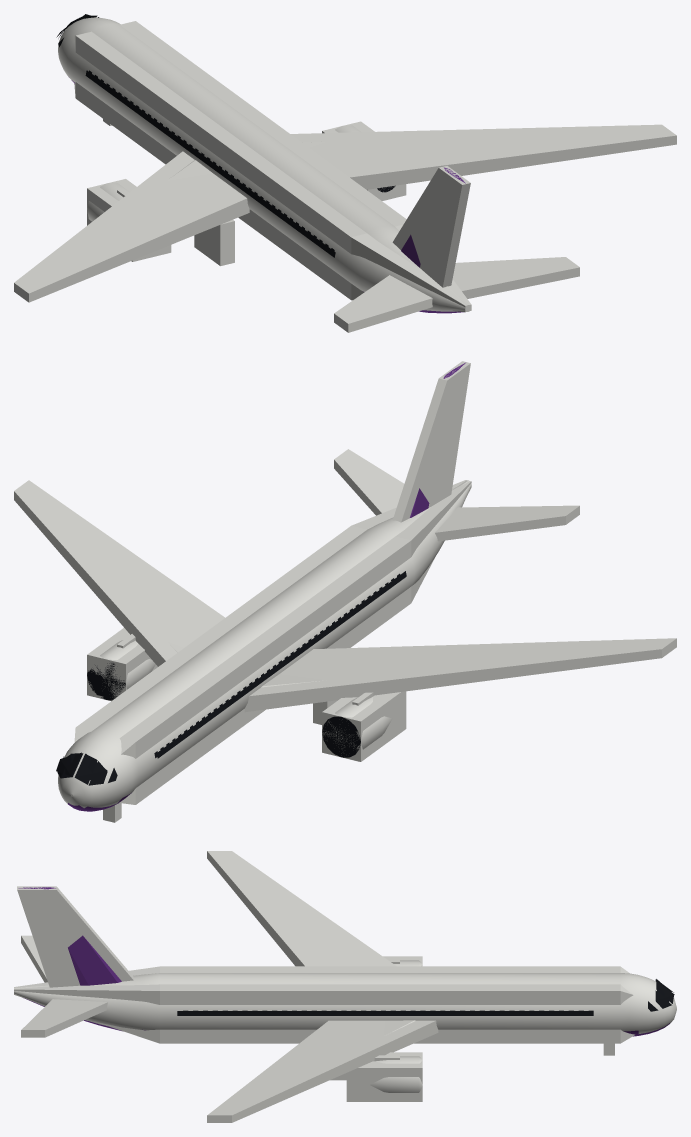
The model's file is bne_ac_wide_purple.dae.
3 renders of one model, top to bottom at view 1: azimuth 30°, elevation 25°; view 2: azimuth 150°, elevation 25°; view 3: azimuth 270°, elevation 25°, orthographic. The views are drawn at different scales.
Visible parts, largest first — view 1: Colmesh_bne_ac_wide_purple-1, bne_ac_wide_purple160, bne_ac_wide_purple16; view 2: Colmesh_bne_ac_wide_purple-1, bne_ac_wide_purple160, bne_ac_wide_purple16; view 3: Colmesh_bne_ac_wide_purple-1, bne_ac_wide_purple160, bne_ac_wide_purple16.
Part boxes in pixels (box(x1,y1,x2,y2)): Colmesh_bne_ac_wide_purple-1: box(14, 21, 676, 332); bne_ac_wide_purple160: box(14, 15, 471, 327); bne_ac_wide_purple16: box(56, 14, 470, 310); Colmesh_bne_ac_wide_purple-1: box(14, 361, 676, 822); bne_ac_wide_purple160: box(57, 362, 674, 811); bne_ac_wide_purple16: box(56, 481, 466, 795); Colmesh_bne_ac_wide_purple-1: box(14, 851, 634, 1122); bne_ac_wide_purple160: box(14, 887, 676, 1120); bne_ac_wide_purple16: box(16, 977, 674, 1034).
Bounding box in the file's own units: 60.1 × 63.7 × 17.5.
